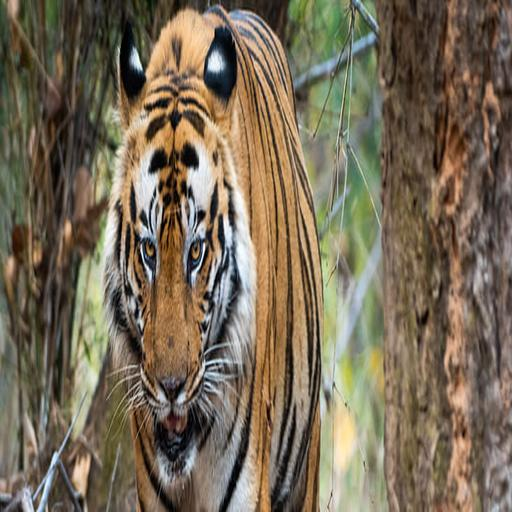Tiger: (94, 0, 332, 512)
